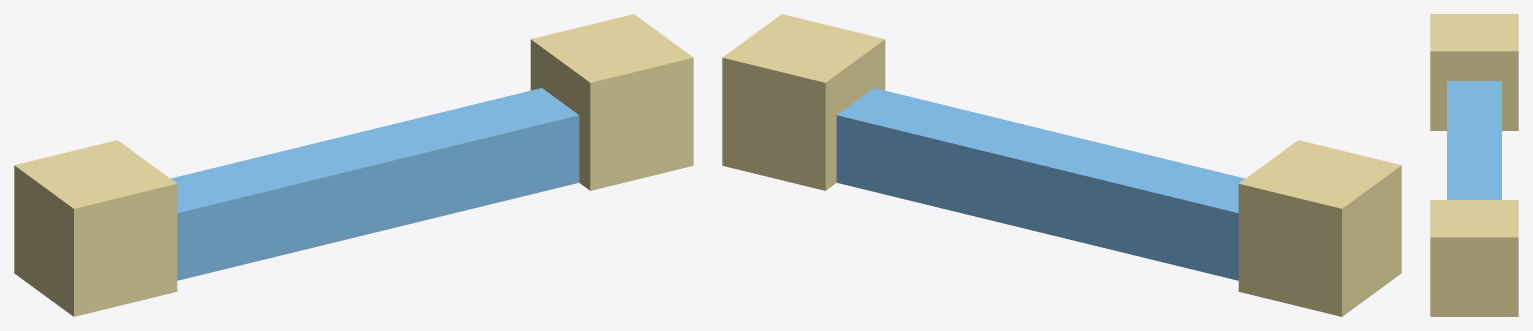
File: Prop_Pet_AMF_ToyRope_V4.glb
3 views of the same model, side by side, from view 1: azimuth 30°, elevation 25°; view 2: azimuth 150°, elevation 25°; view 3: azimuth 270°, elevation 25° (orthographic). The views are drawn at different scales.
Visible parts, largest first — view 1: Prop_Pet_AMF_ToyRope_V4; view 2: Prop_Pet_AMF_ToyRope_V4; view 3: Prop_Pet_AMF_ToyRope_V4.
Part boxes in pixels (x1,y1,x2,y2): Prop_Pet_AMF_ToyRope_V4: (14,14,693,316); Prop_Pet_AMF_ToyRope_V4: (722,14,1401,316); Prop_Pet_AMF_ToyRope_V4: (1430,14,1518,316).
Bounding box in the file's own units: 0.48 × 0.08 × 0.08.
